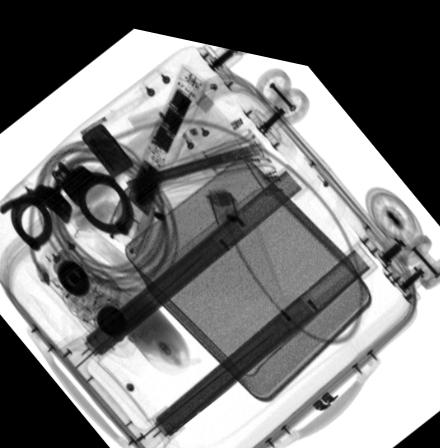Baton: (105, 57, 206, 251)
HandCuffs: (0, 153, 137, 251)
Lighter: (80, 120, 133, 171)
